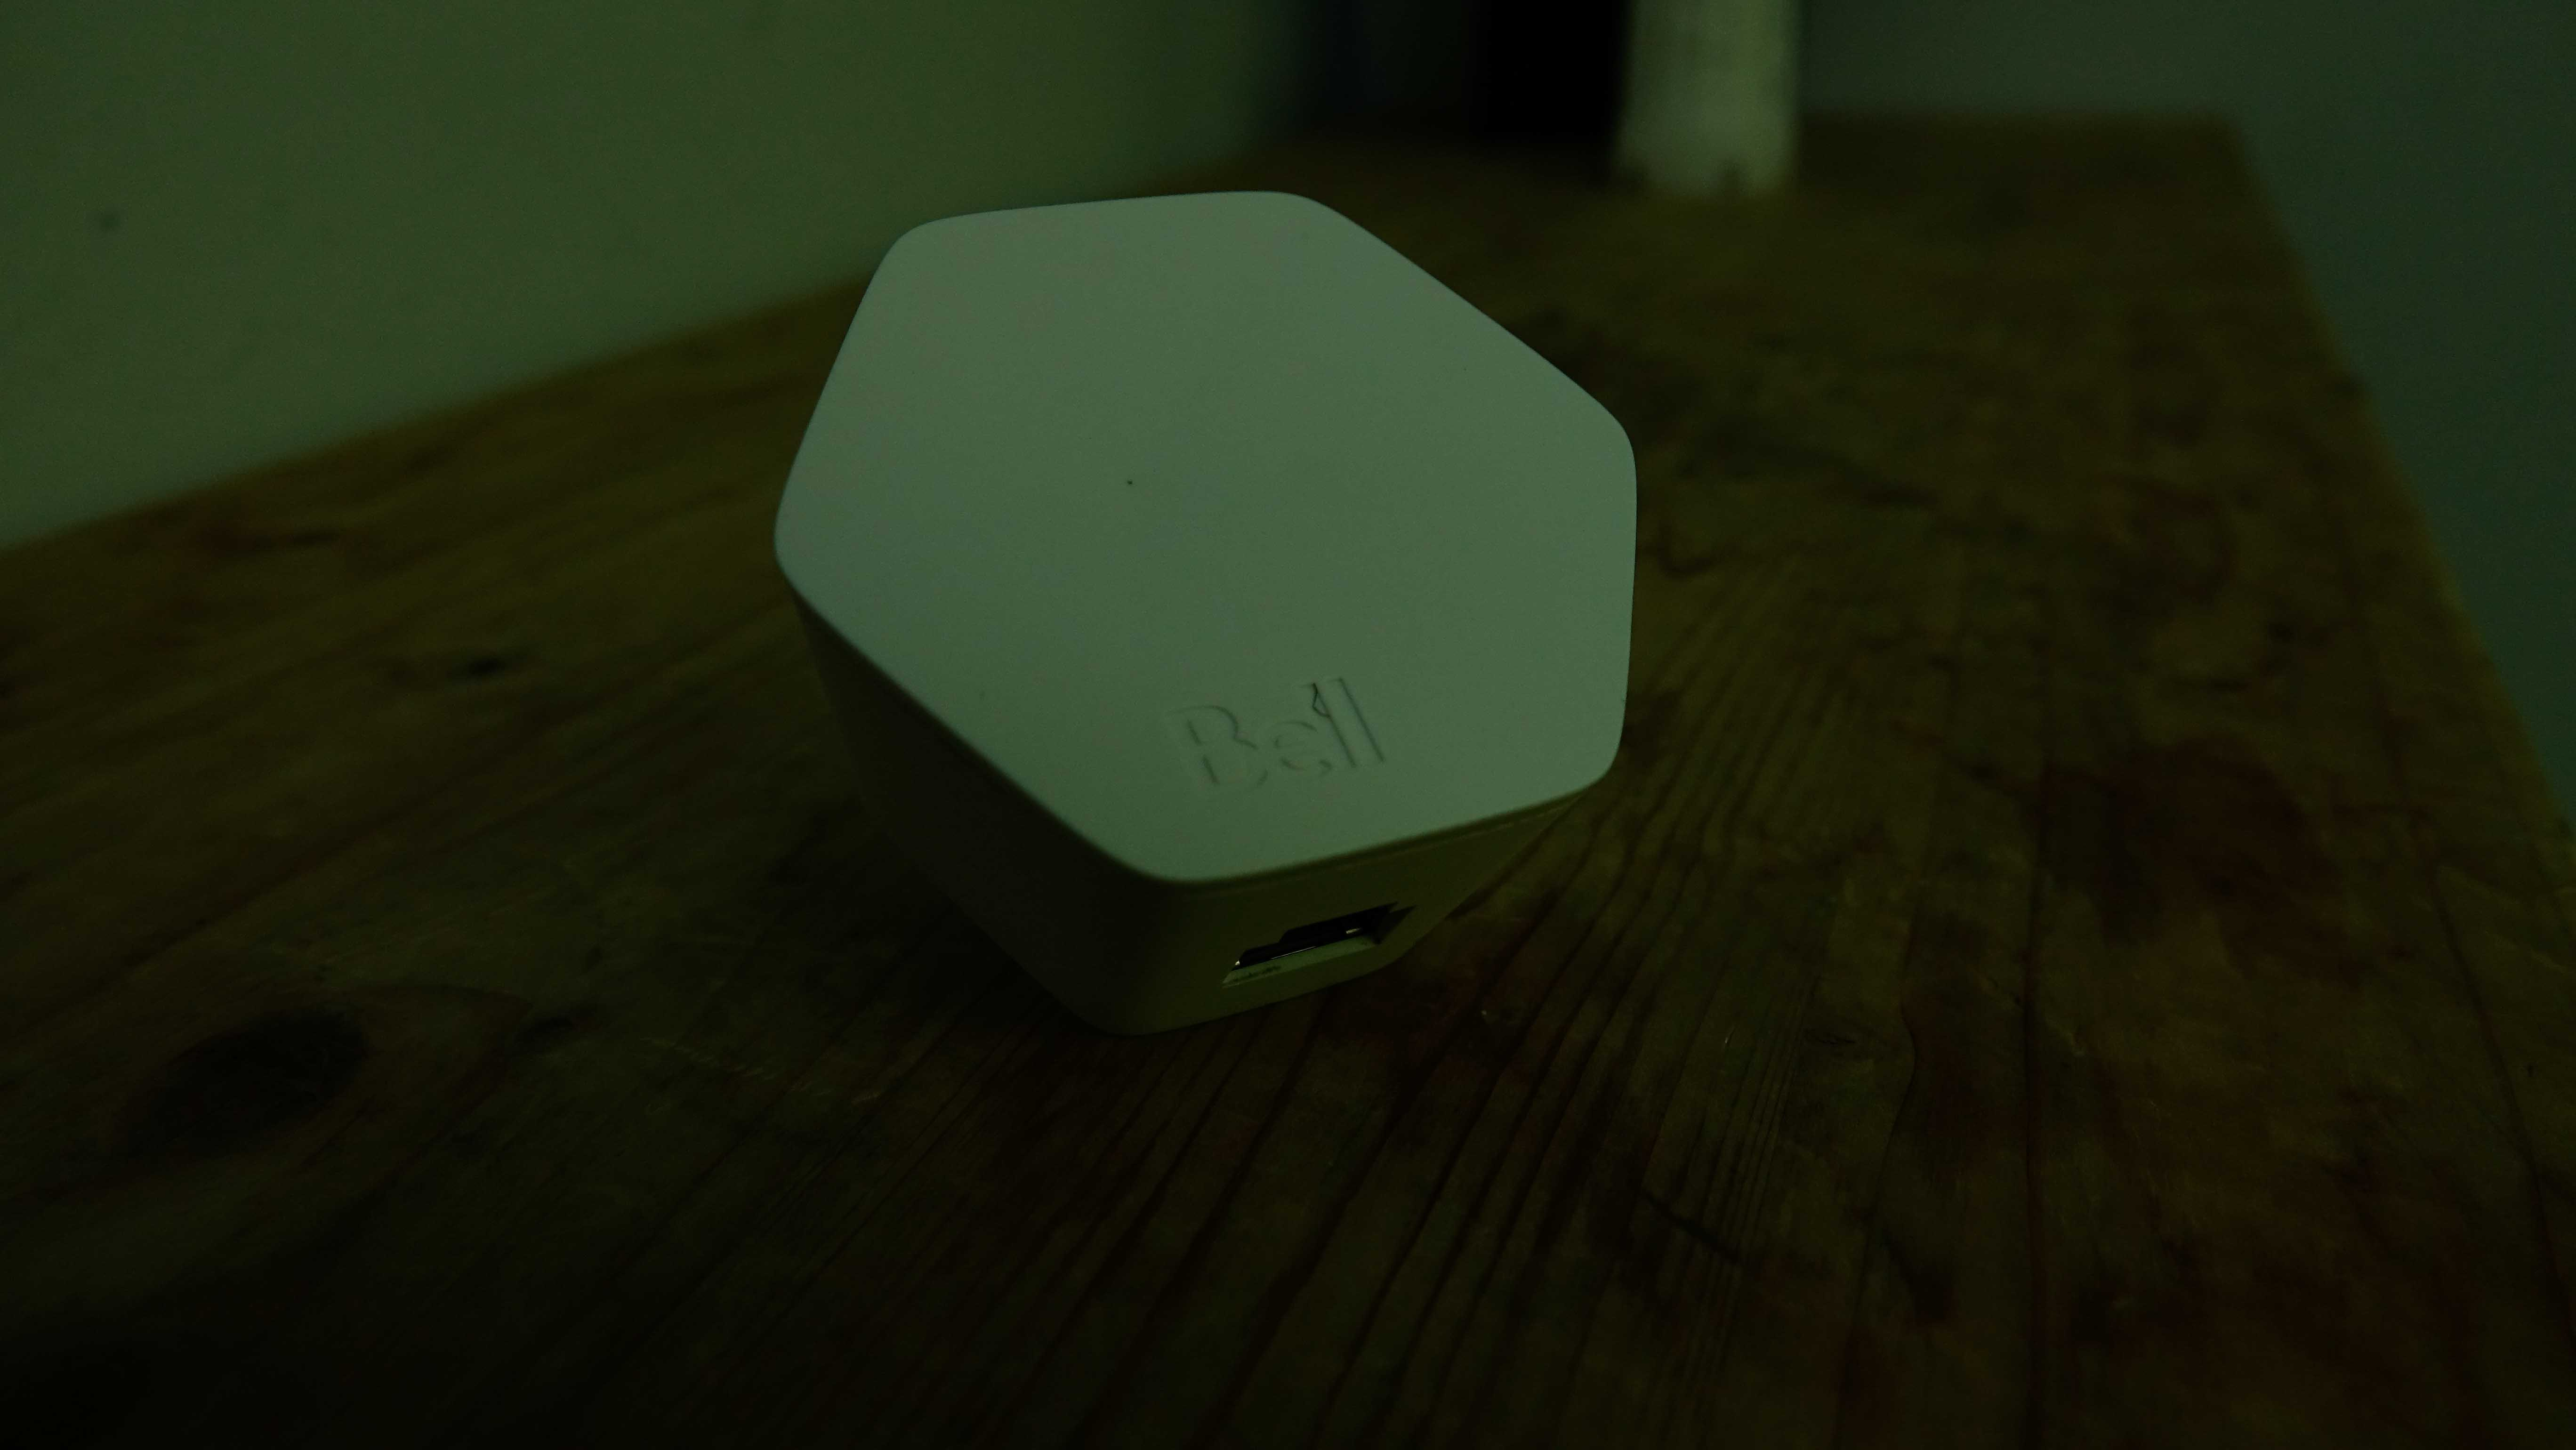pod: (745, 184, 1672, 1056)
